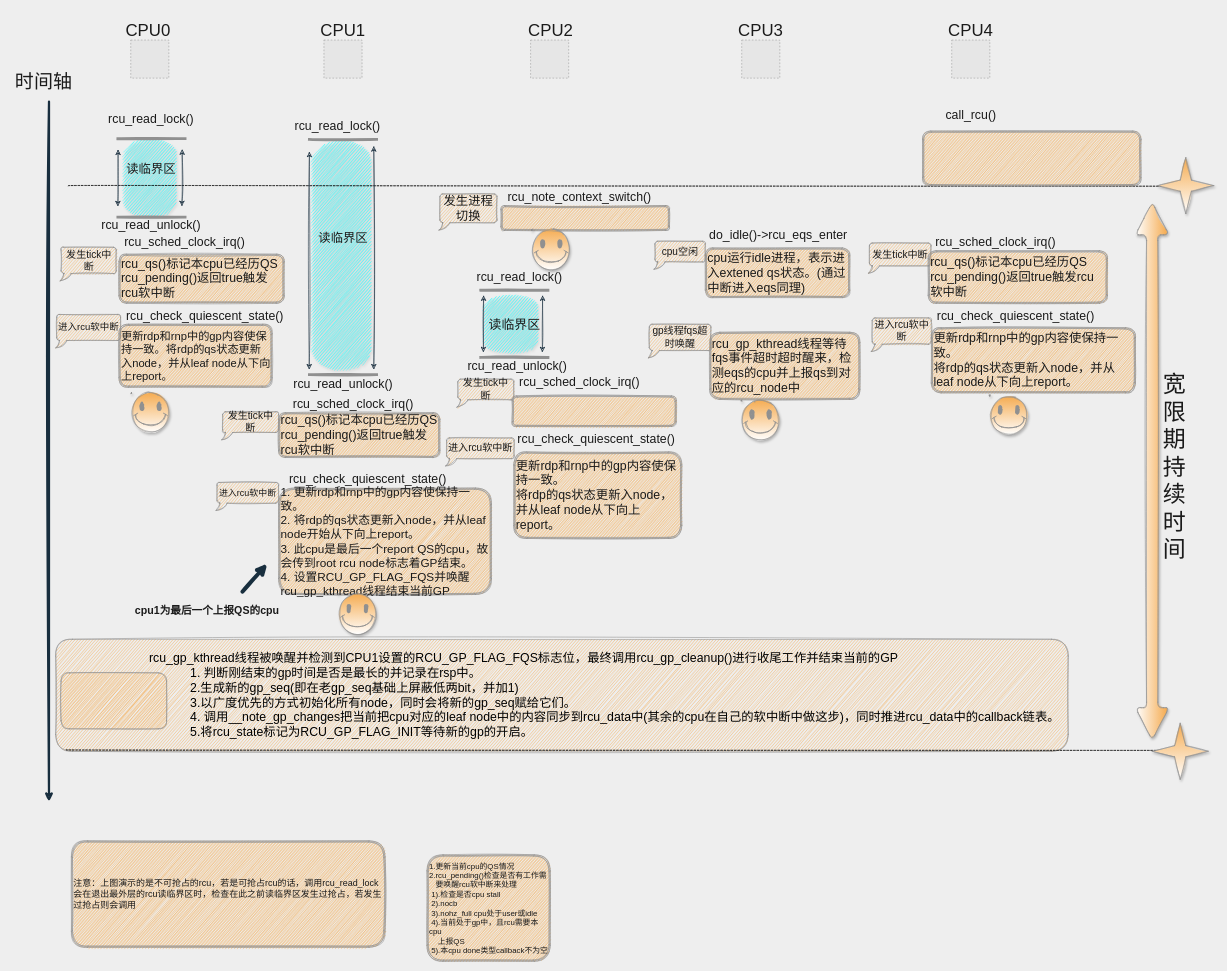
Some shapes in this 1227 by 971 pixel diagram are drawn without their labels. Grey dashed boxes stand in for pictures. Each missing label, with the centre of its shape:
"call_rcu将回调函数插入cpu的回调链表中，并设置RCU_GP_FLAG_INIT来唤醒gp线程开启一个新的宽限期" goes at (x=1031, y=158).
"rcu_gp_kthread线程" goes at (x=113, y=700).
"rcu_qs()标记本cpu已经历QS" goes at (x=584, y=217).
"由于之前进程切换已经标记过QS了，这里只触发rcu软中断" goes at (x=594, y=410).
